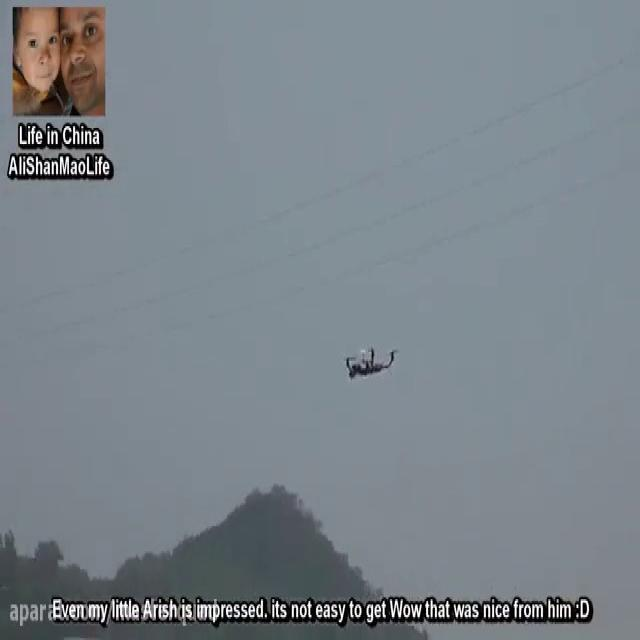drone: (340, 336, 402, 386)
